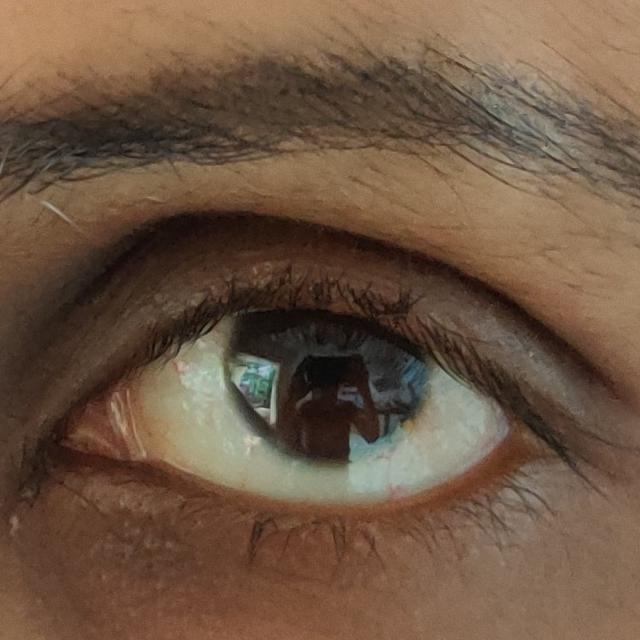eye: (124, 311, 513, 500)
iris: (223, 313, 438, 466)
